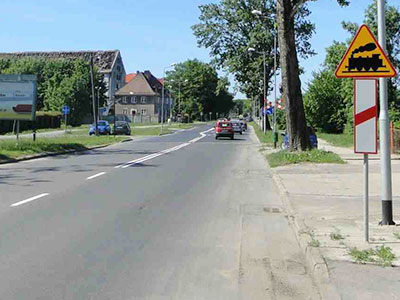a10: (341, 42, 391, 74)
